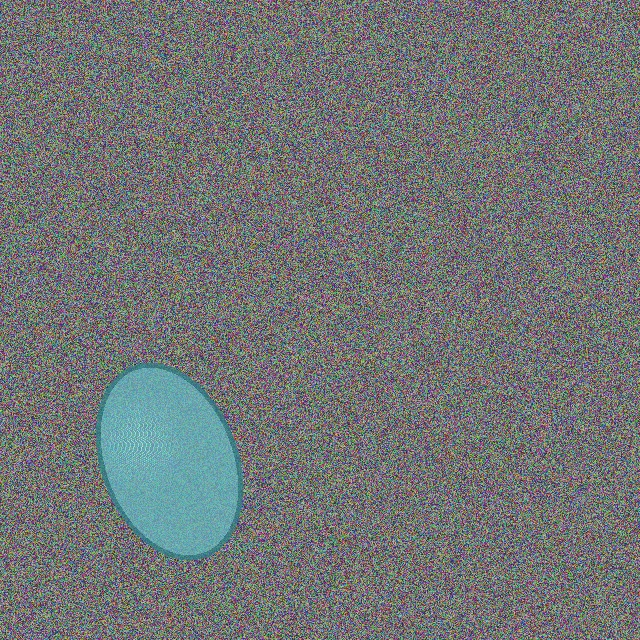lens: (98, 365, 240, 557)
